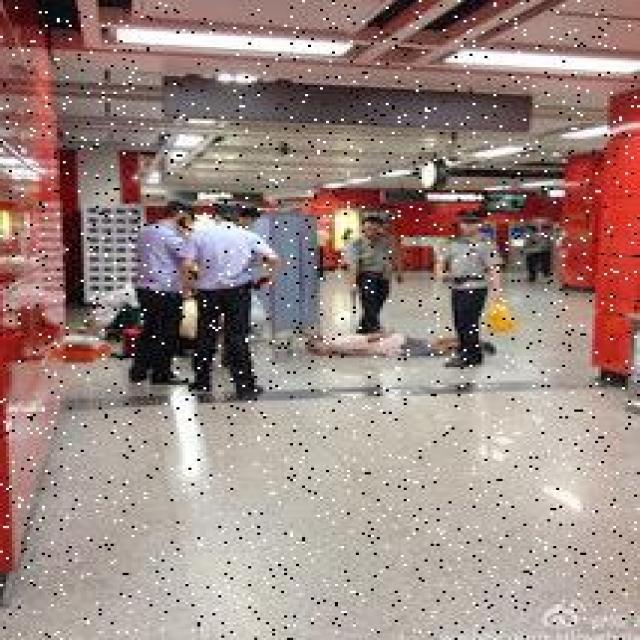fall: (308, 324, 505, 354)
